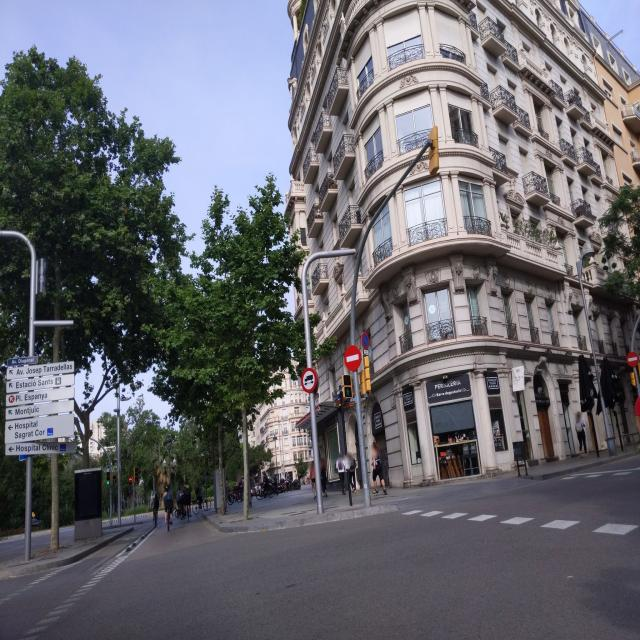bike: (193, 494, 212, 516), (164, 502, 174, 530), (174, 499, 184, 518), (151, 507, 160, 527), (184, 498, 191, 523)
